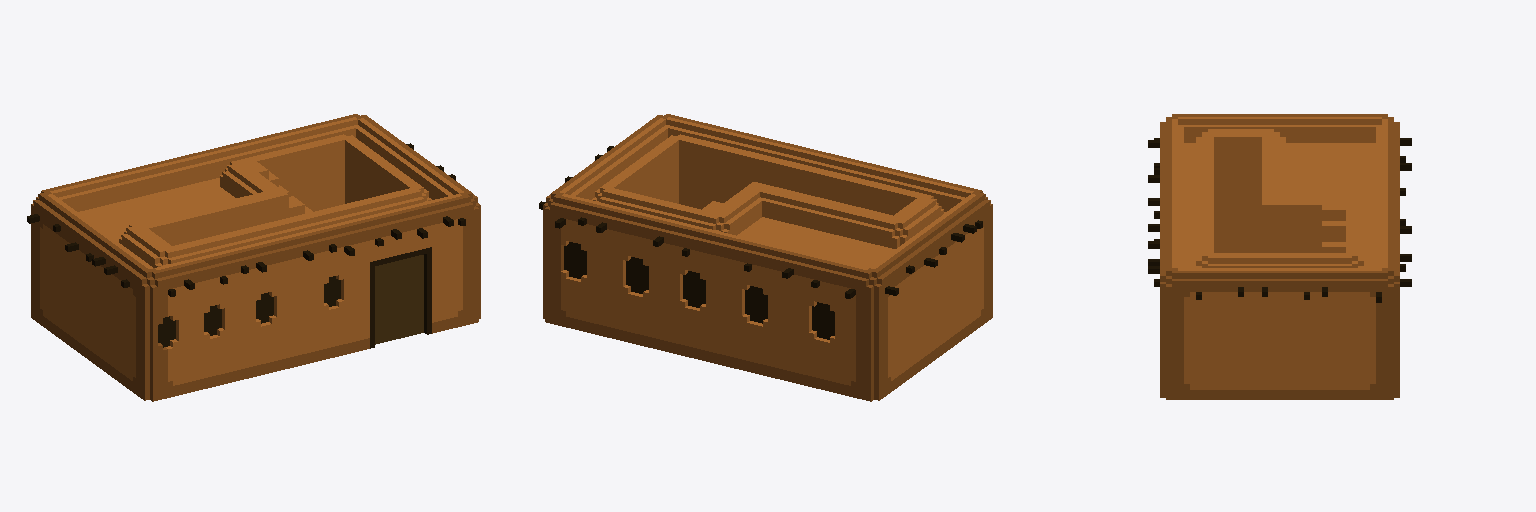
The picture shows the model from 3 angles: view 1: azimuth 30°, elevation 25°; view 2: azimuth 150°, elevation 25°; view 3: azimuth 270°, elevation 25°; orthographic projection.
Visible parts, largest first — view 1: object 1; view 2: object 1; view 3: object 1.
Part boxes in pixels (x1,y1,x2,y2): object 1: (27,114,480,401); object 1: (539,114,992,401); object 1: (1148,114,1411,399).
Size of the model in its own units: 6.9 by 2.3 by 4.4.
1 materials, 1 textured.